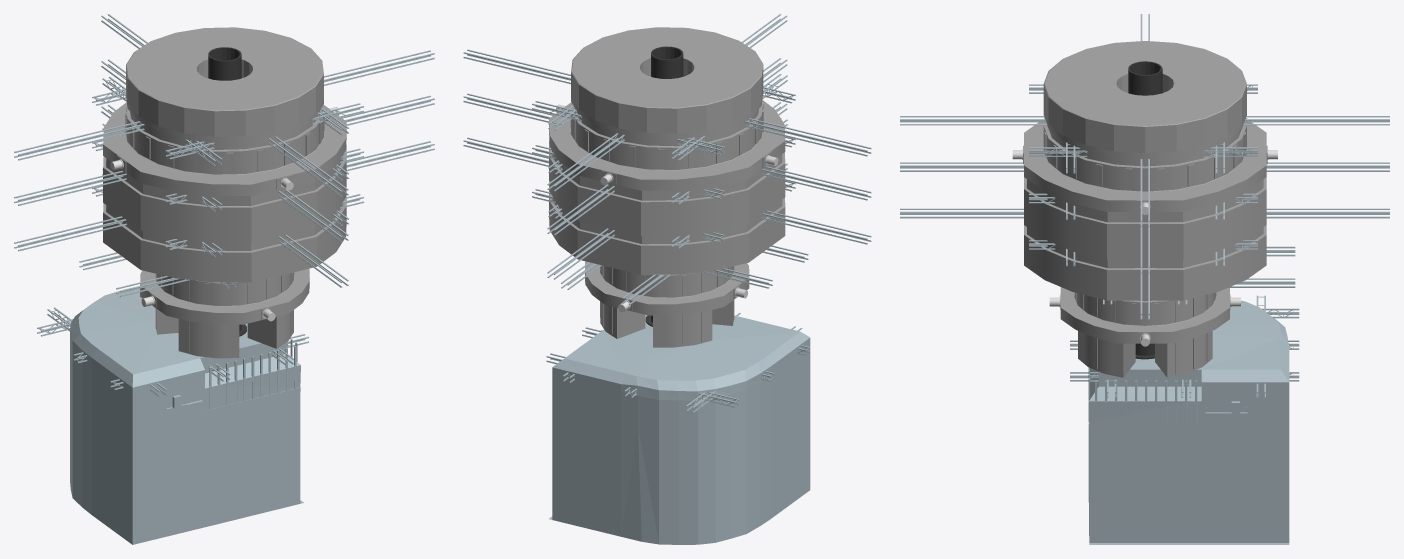
Rendered from UpdatedScene 1.fbx.
The picture shows the model from 3 angles, left to right: view 1: azimuth 30°, elevation 25°; view 2: azimuth 150°, elevation 25°; view 3: azimuth 270°, elevation 25°; orthographic projection. The views are drawn at different scales.
Parts seen in each view (by area): view 1: Room02, roomLayout03:WALLS, Room01, Module02Girders, Module02Girders1, Module02Girders2, roomLayout03:Wall_Struts, roomLayout03:GIRDERS1, ElevaotrChute02, GIRDERS1; view 2: roomLayout03:WALLS, Room02, Room01, Module02Girders, Module02Girders1, Module02Girders2, GIRDERS1, roomLayout03:GIRDERS1, ElevaotrChute02; view 3: Room02, roomLayout03:WALLS, Room01, Module02Girders, Module02Girders2, Module02Girders1, roomLayout03:Wall_Struts, roomLayout03:GIRDERS1, ElevaotrChute02, GIRDERS1.
Part boxes in pixels (bbox=[...]): Room02: bbox=[103, 27, 346, 282]; roomLayout03:WALLS: bbox=[70, 286, 303, 544]; Room01: bbox=[140, 268, 309, 358]; Module02Girders: bbox=[14, 14, 434, 196]; Module02Girders1: bbox=[14, 59, 434, 242]; Module02Girders2: bbox=[14, 105, 434, 287]; roomLayout03:Wall_Struts: bbox=[209, 339, 297, 409]; roomLayout03:GIRDERS1: bbox=[37, 307, 308, 396]; ElevaotrChute02: bbox=[208, 47, 241, 80]; GIRDERS1: bbox=[79, 252, 292, 296]; roomLayout03:WALLS: bbox=[549, 314, 810, 544]; Room02: bbox=[549, 27, 785, 274]; Room01: bbox=[585, 261, 749, 347]; Module02Girders: bbox=[463, 14, 871, 191]; Module02Girders1: bbox=[463, 58, 871, 235]; Module02Girders2: bbox=[463, 102, 871, 279]; GIRDERS1: bbox=[561, 245, 808, 304]; roomLayout03:GIRDERS1: bbox=[546, 312, 810, 412]; ElevaotrChute02: bbox=[651, 46, 683, 78]; Room02: bbox=[1023, 41, 1267, 300]; roomLayout03:WALLS: bbox=[1088, 300, 1289, 544]; Room01: bbox=[1060, 287, 1230, 377]; Module02Girders: bbox=[900, 14, 1389, 226]; Module02Girders2: bbox=[900, 208, 1389, 319]; Module02Girders1: bbox=[900, 162, 1389, 273]; roomLayout03:Wall_Struts: bbox=[1088, 367, 1197, 424]; roomLayout03:GIRDERS1: bbox=[1070, 295, 1299, 397]; ElevaotrChute02: bbox=[1128, 61, 1162, 95]; GIRDERS1: bbox=[1103, 246, 1295, 304].
Size of the model in its own units: 10414 by 10567 by 10395.
